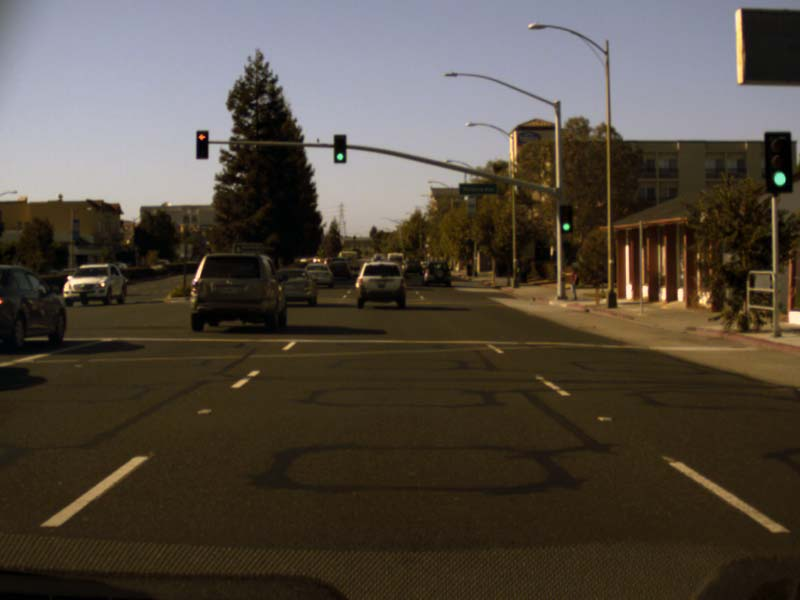Green: (763, 132, 791, 191), (559, 205, 573, 233), (333, 134, 346, 163)
Red: (196, 131, 208, 158)
